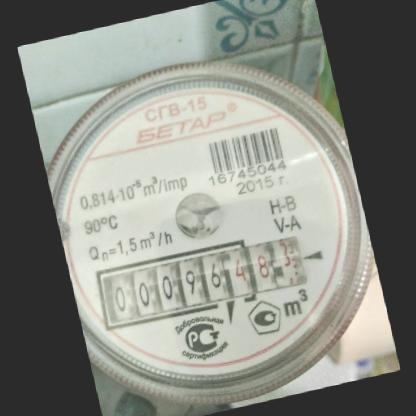digital_screen: (93, 246, 233, 329)
